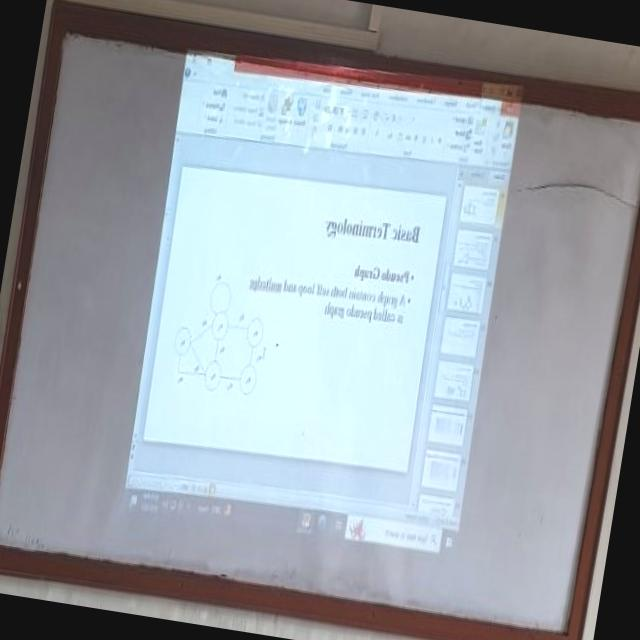Slide: (118, 52, 525, 563)
White-board: (0, 14, 640, 640)
